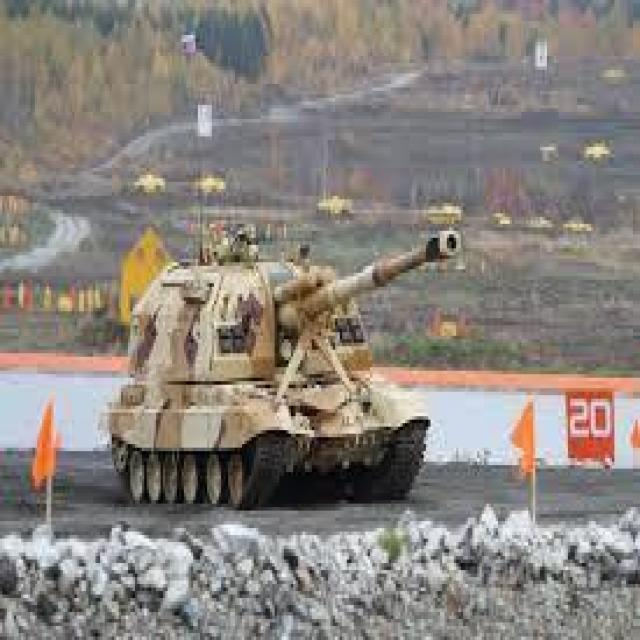MIL_MBT: (90, 231, 464, 500)
